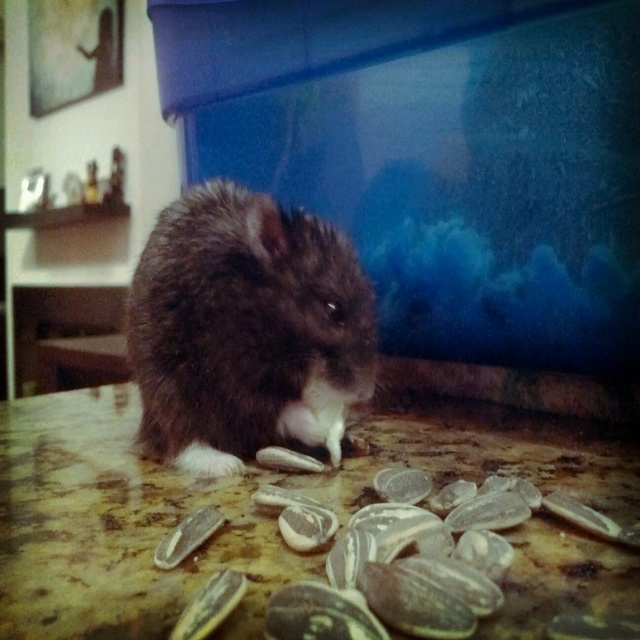Mouse: (112, 177, 387, 481)
